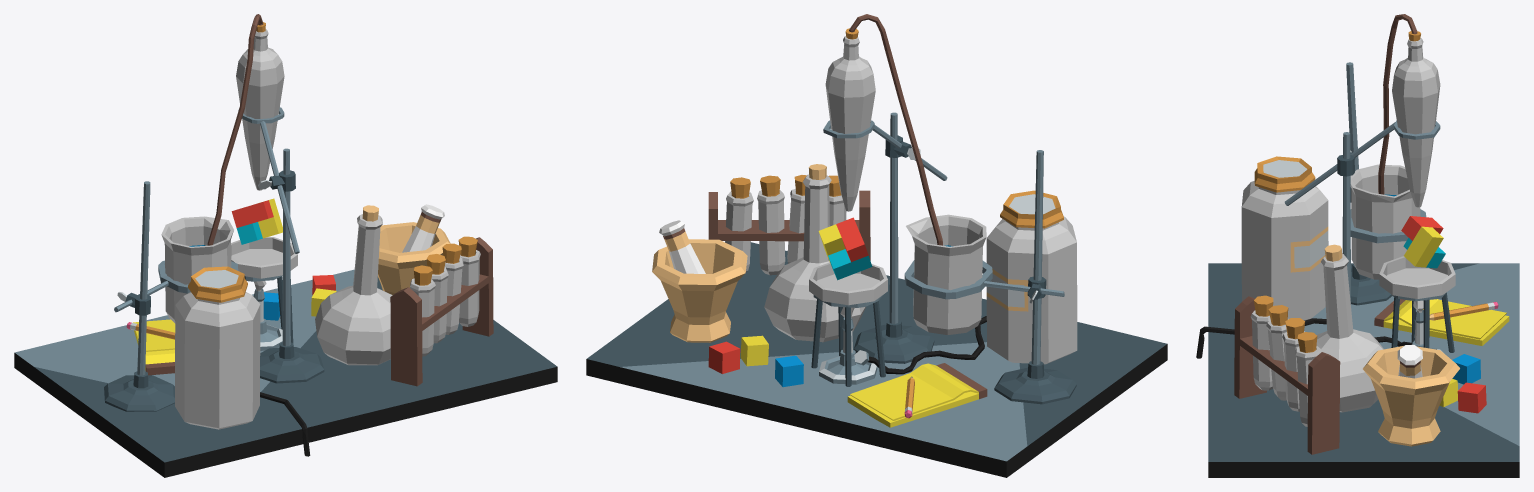
3 renders of one model, left to right at view 1: azimuth 30°, elevation 25°; view 2: azimuth 150°, elevation 25°; view 3: azimuth 270°, elevation 25°, orthographic. The views are drawn at different scales.
Visible parts, largest first — view 1: mesh_61950637, group_150286071, group_367212309, group_4803696, group_243905525, group_315320271, group_1138189113, group_2086256823, group_1156432494, group_253064878, group_672638094, mesh_706801299 (+4 smaller); view 2: mesh_61950637, group_150286071, group_315320271, group_367212309, group_1156432494, group_4803696, group_243905525, mesh_706801299, group_253064878, group_1138189113, group_2086256823, group_672638094 (+7 smaller); view 3: mesh_61950637, group_150286071, group_367212309, group_1156432494, group_315320271, group_243905525, group_4803696, group_253064878, mesh_706801299, group_672638094, group_1138189113, group_81980971 (+8 smaller).
Boxes of the visible parts, x1=… form: mesh_61950637: x1=14, y1=269, x2=557, y2=477; group_150286071: x1=175, y1=266, x2=260, y2=429; group_367212309: x1=390, y1=236, x2=493, y2=386; group_4803696: x1=315, y1=205, x2=392, y2=365; group_243905525: x1=236, y1=22, x2=284, y2=190; group_315320271: x1=158, y1=216, x2=238, y2=323; group_1138189113: x1=104, y1=181, x2=174, y2=411; group_2086256823: x1=260, y1=148, x2=324, y2=383; group_1156432494: x1=378, y1=222, x2=450, y2=294; group_253064878: x1=231, y1=237, x2=297, y2=343; group_672638094: x1=231, y1=198, x2=282, y2=244; mesh_706801299: x1=133, y1=319, x2=175, y2=375; mesh_61950637: x1=586, y1=242, x2=1167, y2=477; group_150286071: x1=986, y1=190, x2=1077, y2=364; group_315320271: x1=904, y1=214, x2=992, y2=335; group_367212309: x1=708, y1=175, x2=870, y2=275; group_1156432494: x1=652, y1=239, x2=747, y2=342; group_4803696: x1=764, y1=164, x2=865, y2=342; group_243905525: x1=823, y1=28, x2=875, y2=211; mesh_706801299: x1=847, y1=363, x2=987, y2=427; group_253064878: x1=809, y1=262, x2=887, y2=386; group_1138189113: x1=994, y1=150, x2=1076, y2=404; group_2086256823: x1=853, y1=112, x2=934, y2=363; group_672638094: x1=818, y1=217, x2=872, y2=280; mesh_61950637: x1=1208, y1=263, x2=1519, y2=477; group_150286071: x1=1241, y1=156, x2=1328, y2=320; group_367212309: x1=1234, y1=295, x2=1340, y2=454; group_1156432494: x1=1363, y1=346, x2=1459, y2=446; group_315320271: x1=1350, y1=164, x2=1426, y2=279; group_243905525: x1=1392, y1=31, x2=1440, y2=207; group_4803696: x1=1316, y1=244, x2=1383, y2=412; group_253064878: x1=1379, y1=256, x2=1455, y2=352; mesh_706801299: x1=1374, y1=299, x2=1509, y2=345; group_672638094: x1=1401, y1=216, x2=1445, y2=268; group_1138189113: x1=1346, y1=62, x2=1391, y2=305; group_81980971: x1=1378, y1=14, x2=1417, y2=194.
Bounding box in the file's own units: 240 × 207 × 165.
